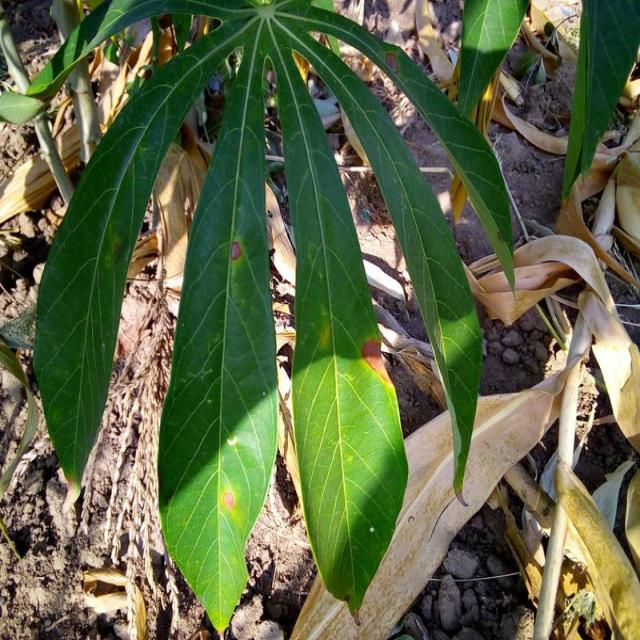cassava leaf: (30, 11, 252, 506), (266, 16, 409, 624), (155, 11, 279, 634)
